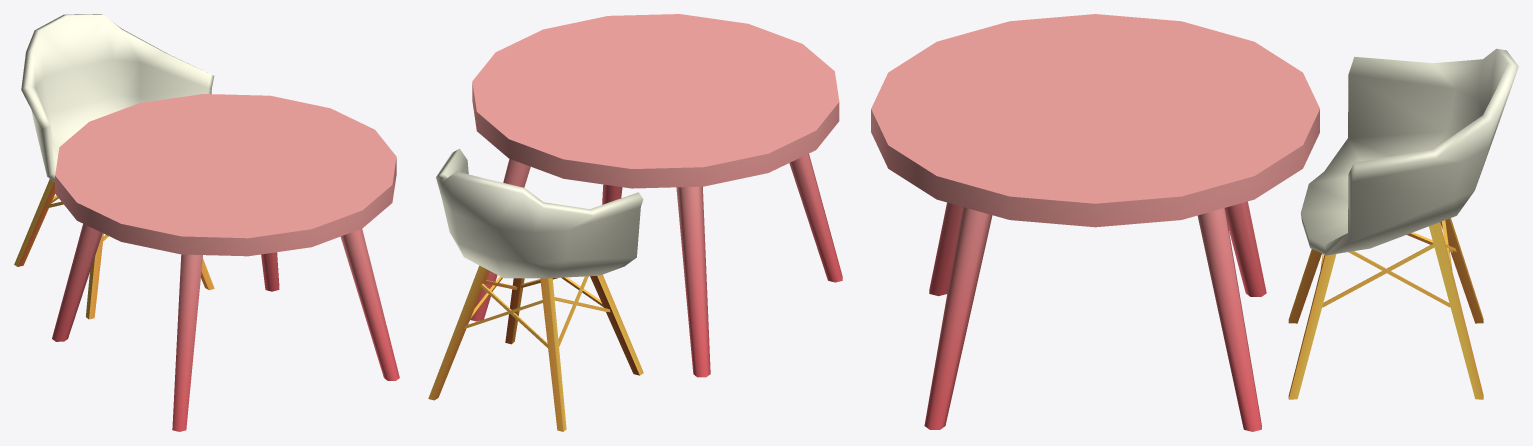
The model's file is Dining_Table.fbx.
The picture shows the model from 3 angles, left to right: view 1: azimuth 30°, elevation 25°; view 2: azimuth 150°, elevation 25°; view 3: azimuth 270°, elevation 25°; orthographic projection. The views are drawn at different scales.
Visible parts, largest first — view 1: Dining_Table; view 2: Dining_Table; view 3: Dining_Table.
Part boxes in pixels (x1,y1,x2,y2): Dining_Table: (14,14,399,431); Dining_Table: (428,14,842,431); Dining_Table: (871,14,1518,431).
Bounding box in the file's own units: 14.66 × 10.66 × 21.14.
Materials: 1 (1 with a texture image).
